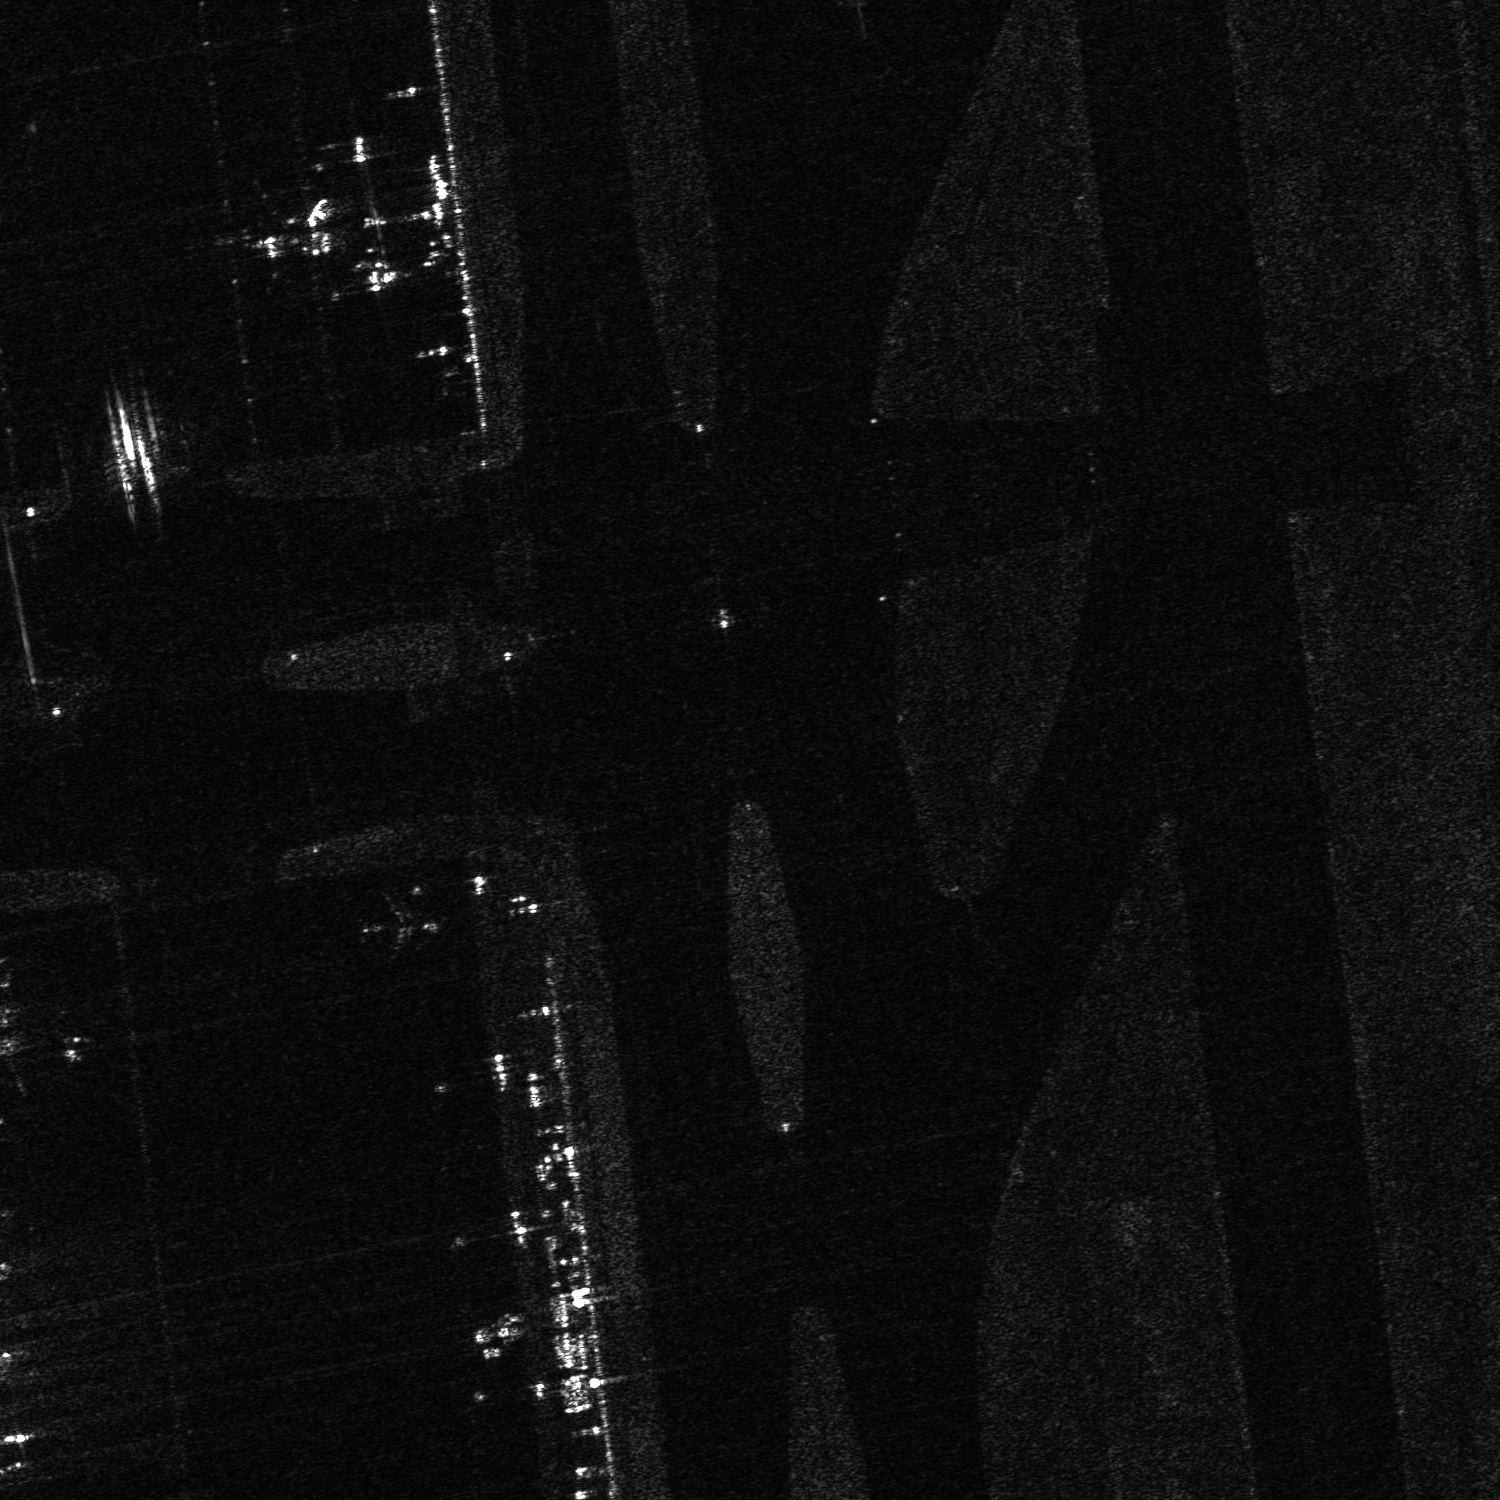Boeing737: (350, 890, 445, 963)
